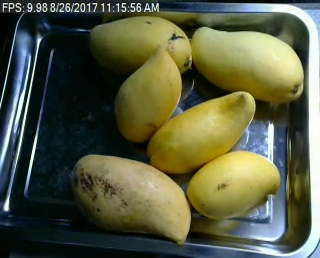Mango: (72, 154, 190, 242), (149, 90, 255, 172), (194, 24, 302, 101), (112, 45, 183, 139), (185, 151, 281, 217), (90, 16, 192, 78)
